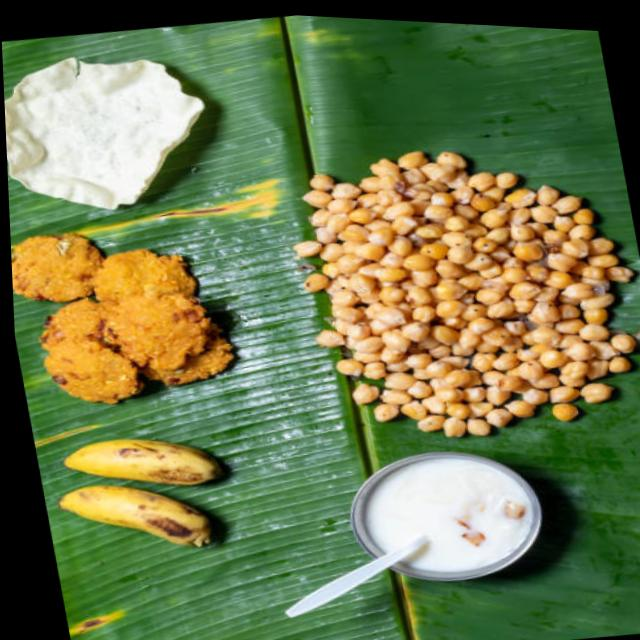BANANA: (59, 438, 225, 549)
PAPADAM: (4, 55, 207, 212)
SUNDAL: (295, 149, 639, 437)
SWEET: (363, 458, 534, 573)
VADA: (12, 234, 239, 407)
